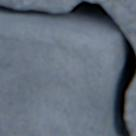brick: (0, 12, 119, 135)
crack: (0, 0, 135, 135)
